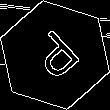P_SE: (23, 24, 87, 86)
